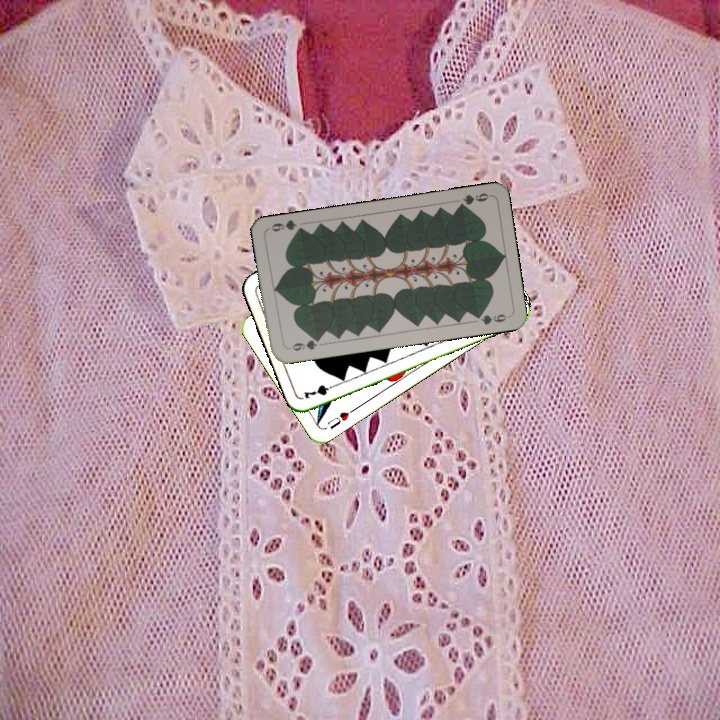G7: (300, 379, 340, 402)
G9: (453, 189, 493, 211), (284, 334, 323, 354)
HU: (323, 404, 358, 432)
